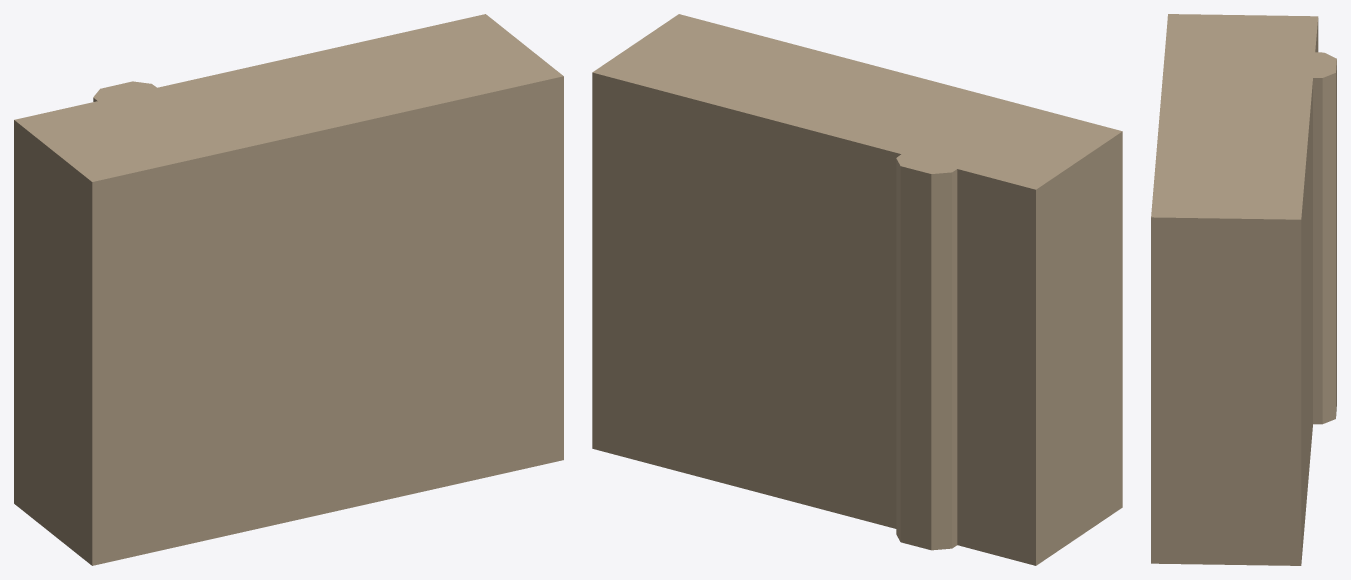
Rendered from bld_54729735.dae.
3 views of the same model, side by side, from view 1: azimuth 30°, elevation 25°; view 2: azimuth 150°, elevation 25°; view 3: azimuth 270°, elevation 25° (orthographic). The views are drawn at different scales.
Visible parts, largest first — view 1: Thomas Plume's Library; view 2: Thomas Plume's Library; view 3: Thomas Plume's Library.
Boxes of the visible parts, bbox=[...] form: Thomas Plume's Library: bbox=[14, 14, 563, 565]; Thomas Plume's Library: bbox=[592, 14, 1122, 565]; Thomas Plume's Library: bbox=[1151, 14, 1336, 565].
Size of the model in its own units: 22.94 by 8.76 by 18.
